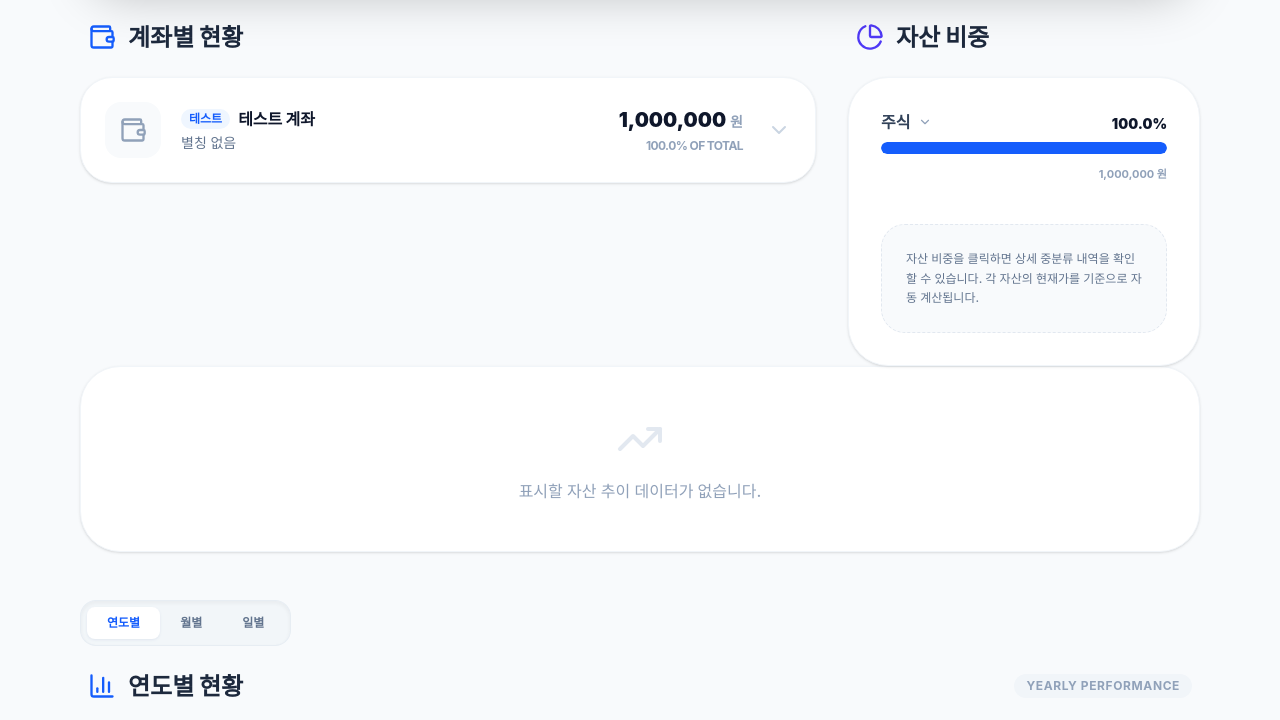
Scenario: DashboardPage › 연도별/월별/일별 탭이 렌더링되고 탭 전환 시 해당 기간의 테이블만 표시된다
(page scrolled)
Expected: the button "연도별" is shown, [87, 606, 160, 638]
Expected: the button "일별" is shown, [222, 606, 284, 638]
Note:  월별 탭 클릭
Click the button "월별": (191, 622) [160, 606, 222, 638]
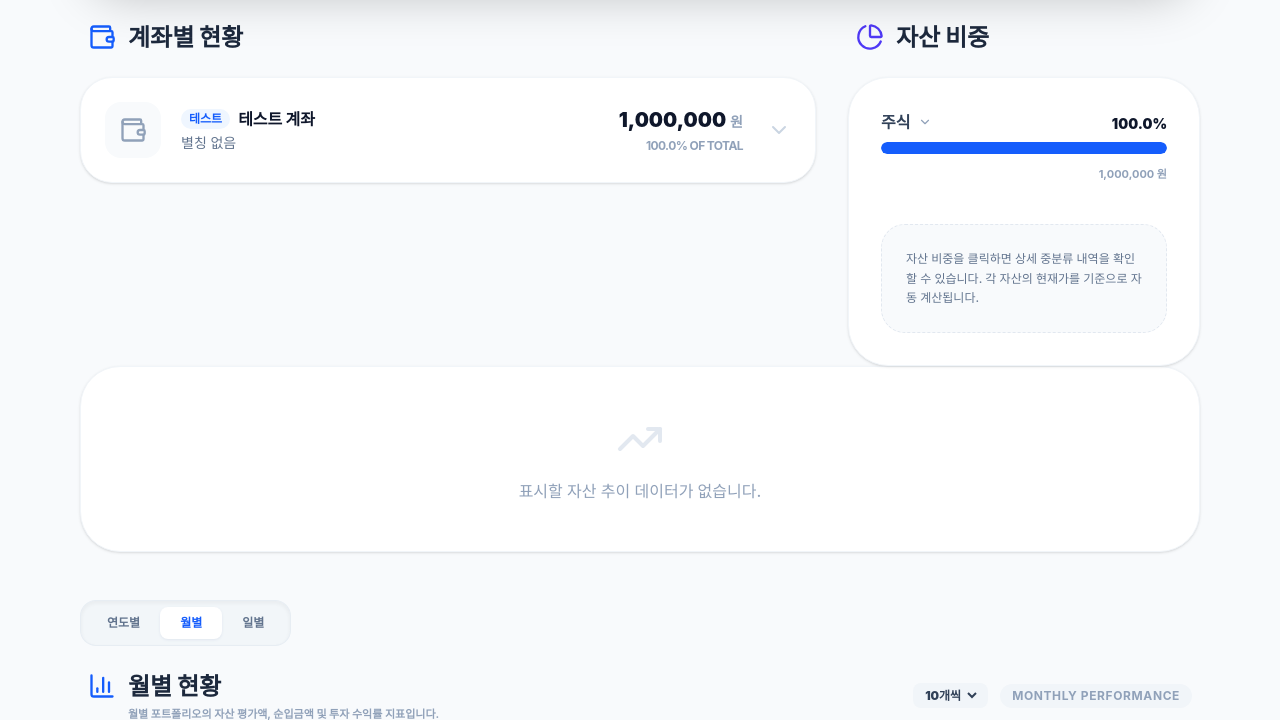
Expected: the text "일자별 현황" is not shown
Expected: the heading "월별 현황" is shown, [88, 668, 221, 702]
Expected: the heading "연도별 현황" is gone
Note:  일별 탭 클릭
Click the button "일별": (253, 622) [222, 606, 284, 638]
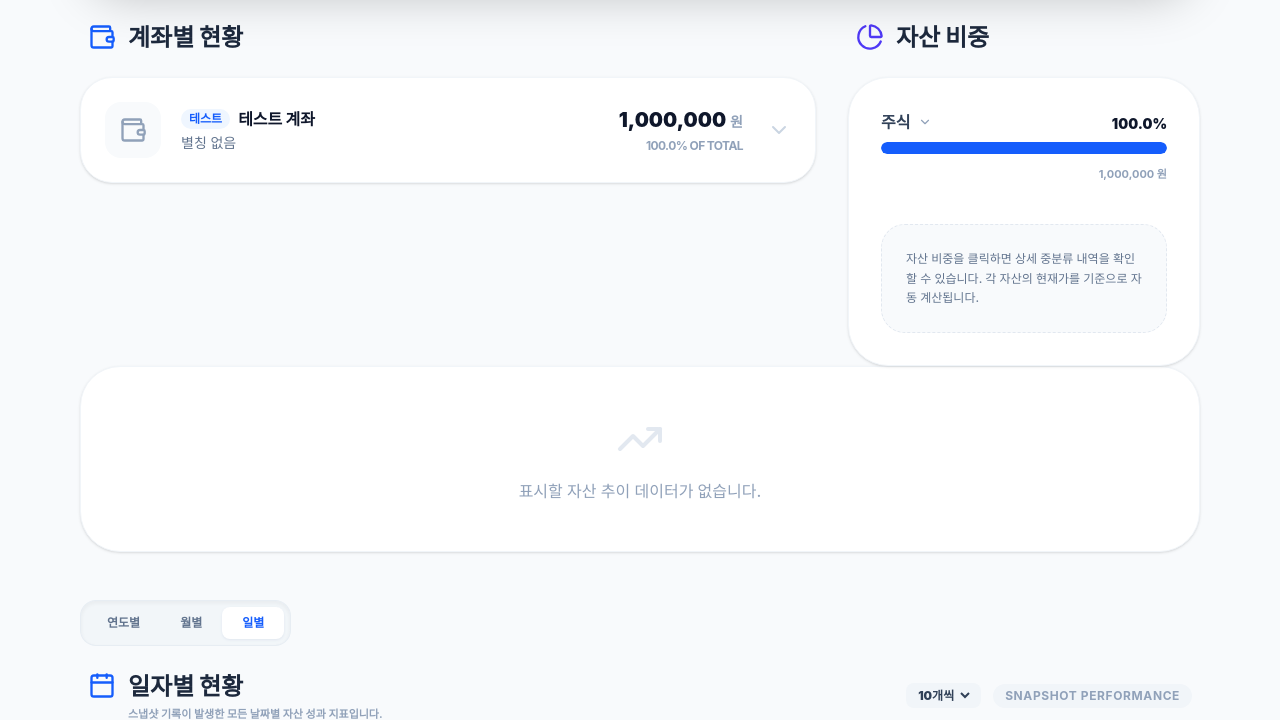
Expected: the heading "연도별 현황" is not shown
Expected: the heading "일자별 현황" is shown, [88, 668, 243, 702]
Expected: the heading "월별 현황" is gone
